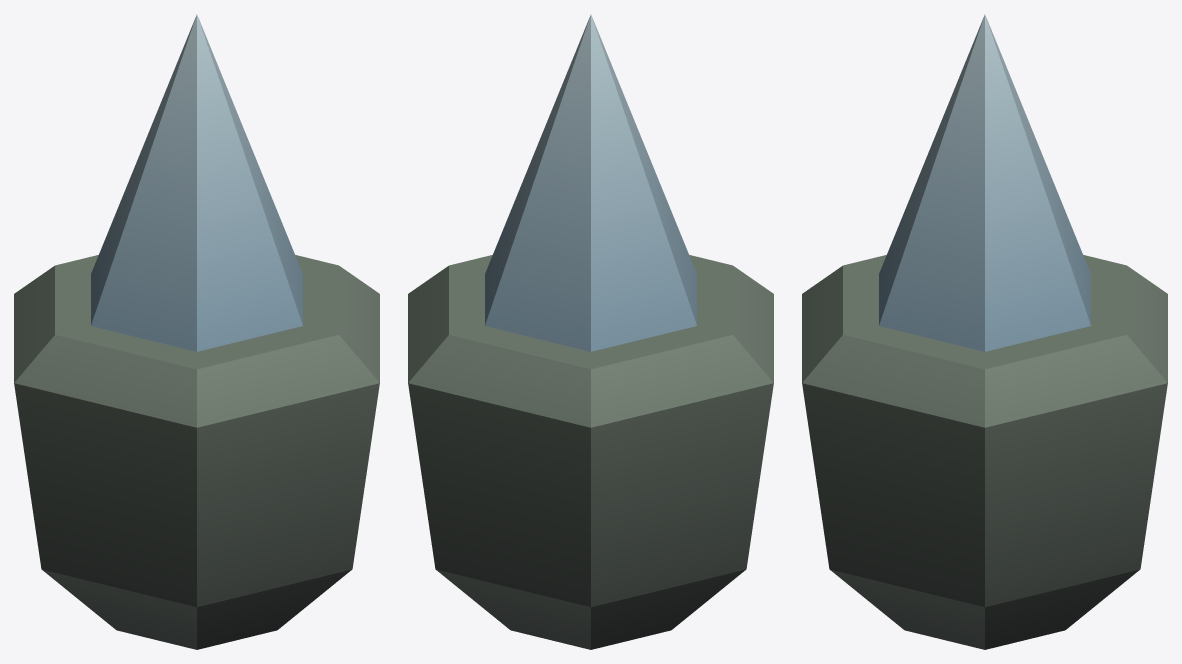
The model's file is decor_005.fbx.
3 renders of one model, left to right at view 1: azimuth 30°, elevation 25°; view 2: azimuth 150°, elevation 25°; view 3: azimuth 270°, elevation 25°, orthographic.
Visible parts, largest first — view 1: decor.005; view 2: decor.005; view 3: decor.005.
Boxes of the visible parts, x1,y1,x2,y2 form: decor.005: [14, 14, 379, 649]; decor.005: [408, 14, 773, 649]; decor.005: [802, 14, 1167, 649].
Bounding box in the file's own units: 9.47 × 14.76 × 8.2.
